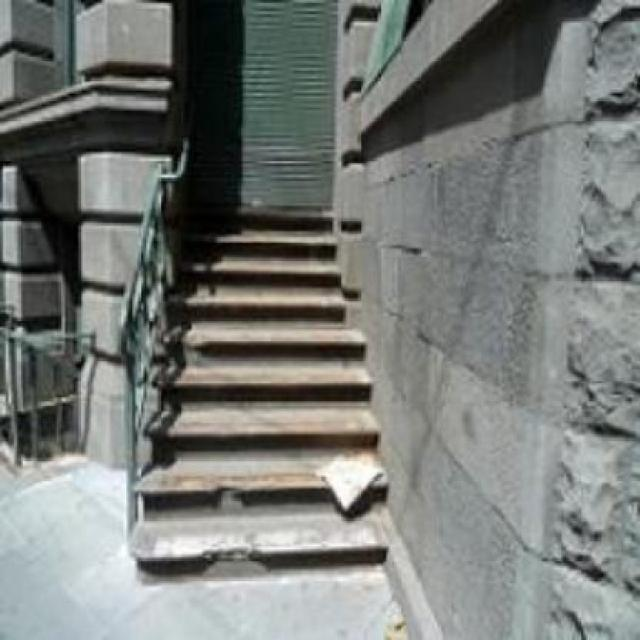stair: (129, 210, 389, 592)
